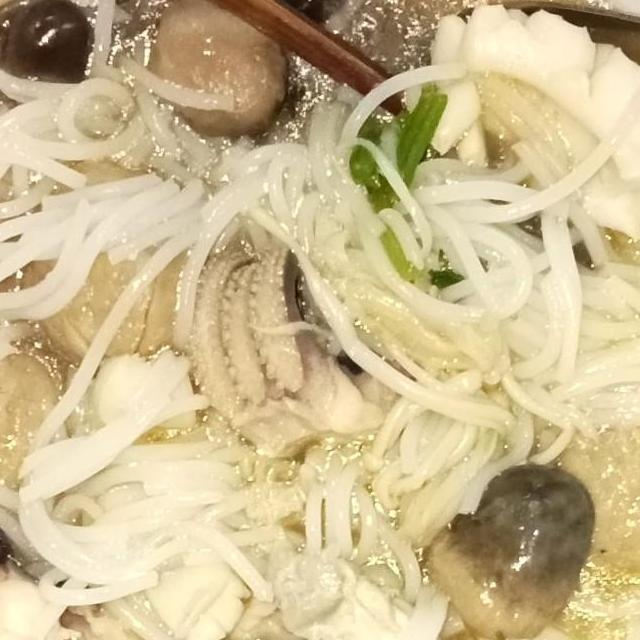bun: (242, 57, 640, 470), (0, 8, 226, 363), (10, 342, 268, 622), (201, 568, 615, 640)
muc: (383, 0, 640, 257), (180, 240, 394, 468), (0, 499, 99, 640)
